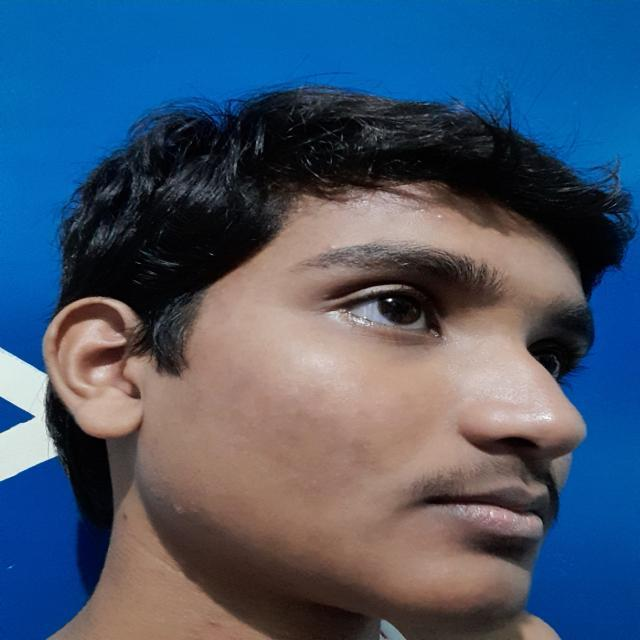Acne: (142, 492, 210, 532)
